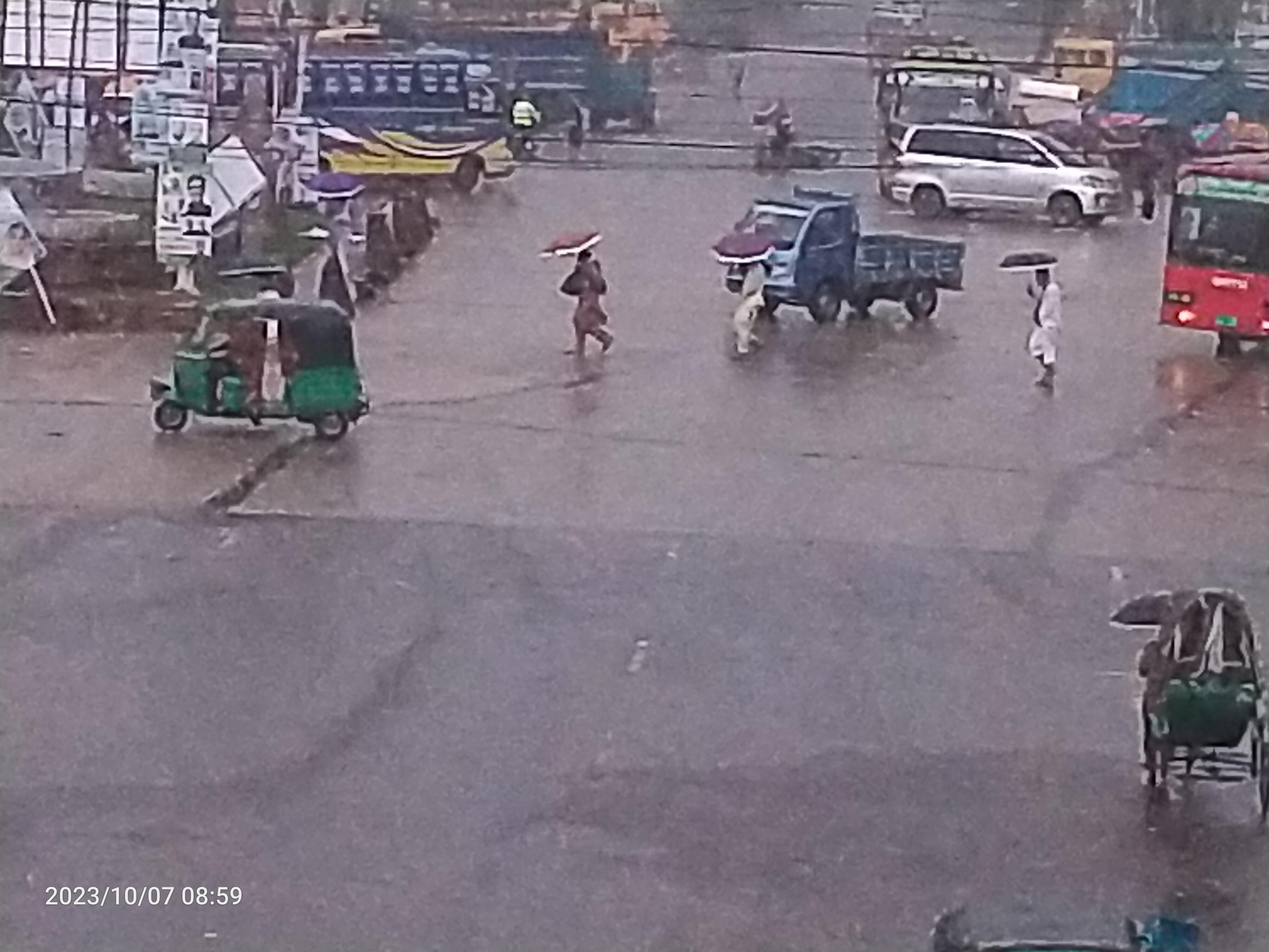Bus: (200, 33, 538, 216), (1136, 124, 1269, 384), (855, 36, 1026, 219)
Car: (1049, 559, 1269, 831), (878, 109, 1139, 235)
Truck: (683, 188, 993, 361)
